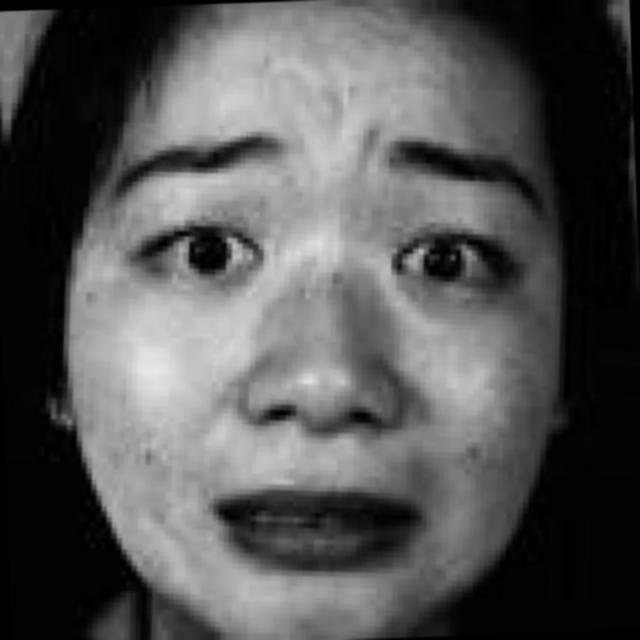fear: (57, 19, 567, 640)
